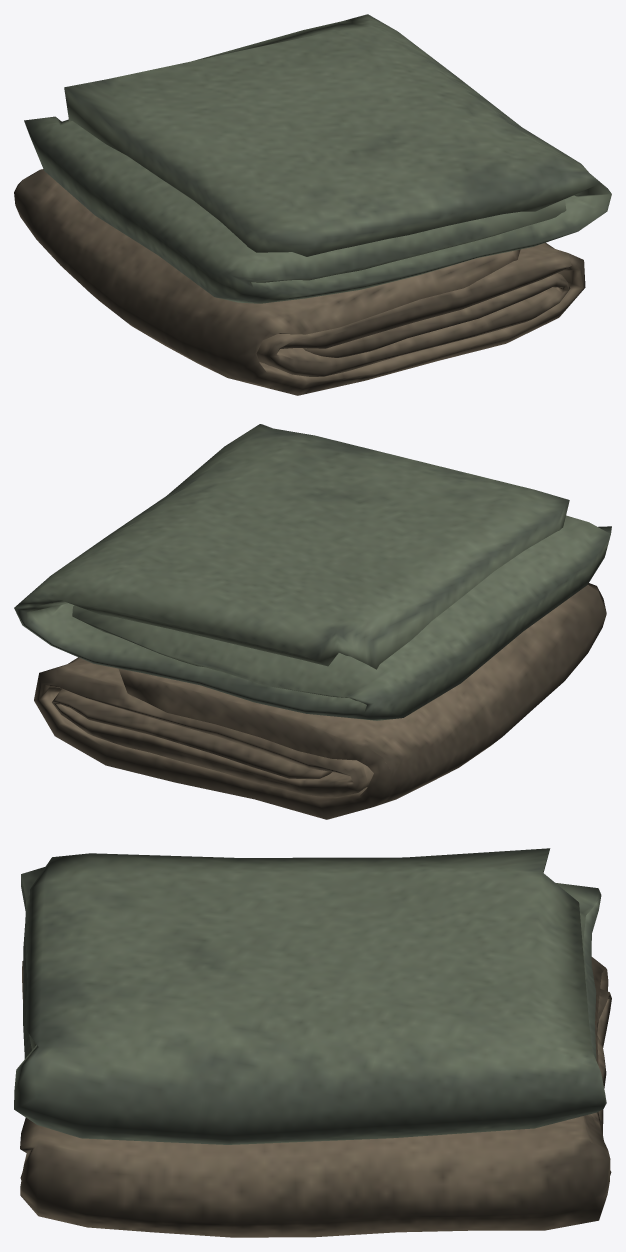
Rendered from SM_Blanket.fbx.
3 renders of one model, top to bottom at view 1: azimuth 30°, elevation 25°; view 2: azimuth 150°, elevation 25°; view 3: azimuth 270°, elevation 25°, orthographic. The views are drawn at different scales.
Visible parts, largest first — view 1: SM_Blanket; view 2: SM_Blanket; view 3: SM_Blanket.
Boxes of the visible parts, left/top/right/bottom form: SM_Blanket: left=14, top=14, right=611, bottom=395; SM_Blanket: left=14, top=424, right=611, bottom=819; SM_Blanket: left=14, top=848, right=611, bottom=1237.
Size of the model in its own units: 0.5038 by 0.5455 by 0.2308.
